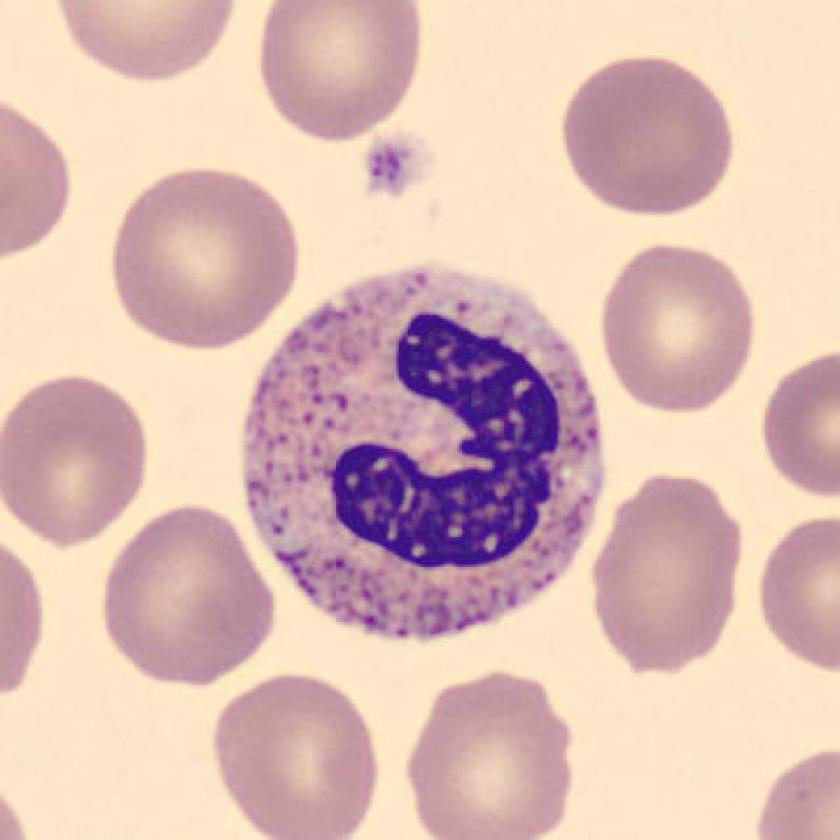neutrophil: (245, 270, 605, 644)
